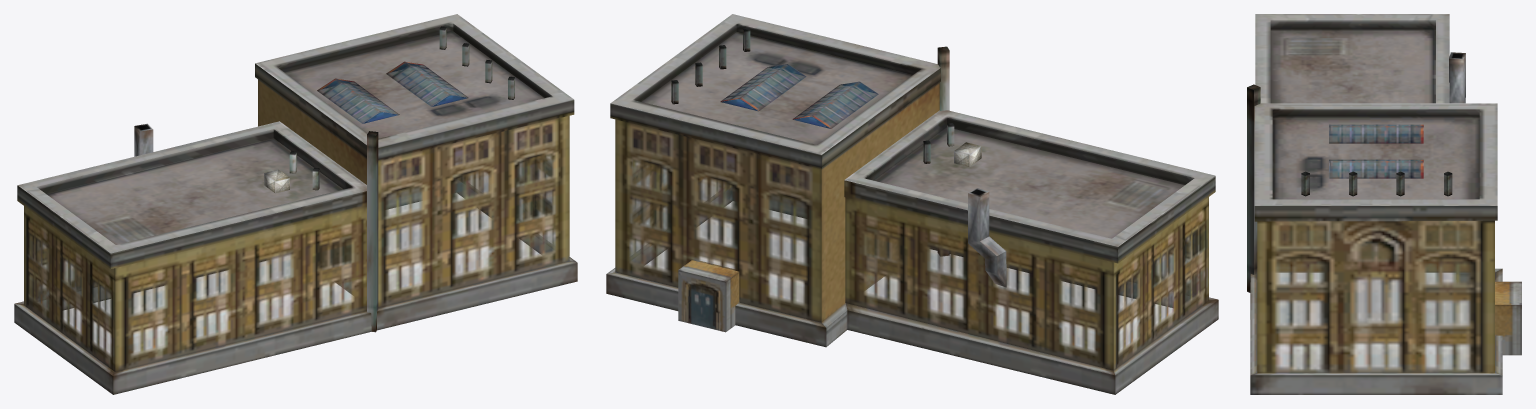
Rendered from Civilian - Civilian Building - Industrial Building 01 - CBIndWhs01.glb.
3 renders of one model, left to right at view 1: azimuth 30°, elevation 25°; view 2: azimuth 150°, elevation 25°; view 3: azimuth 270°, elevation 25°, orthographic. The views are drawn at different scales.
Parts seen in each view (by area): view 1: CBINDWHS01; view 2: CBINDWHS01; view 3: CBINDWHS01.
Boxes of the visible parts, bbox=[...] form: CBINDWHS01: bbox=[14, 14, 577, 394]; CBINDWHS01: bbox=[606, 14, 1218, 394]; CBINDWHS01: bbox=[1247, 14, 1521, 394].
Size of the model in its own units: 138 by 55.56 by 67.7.
Materials: 1 (1 with a texture image).
